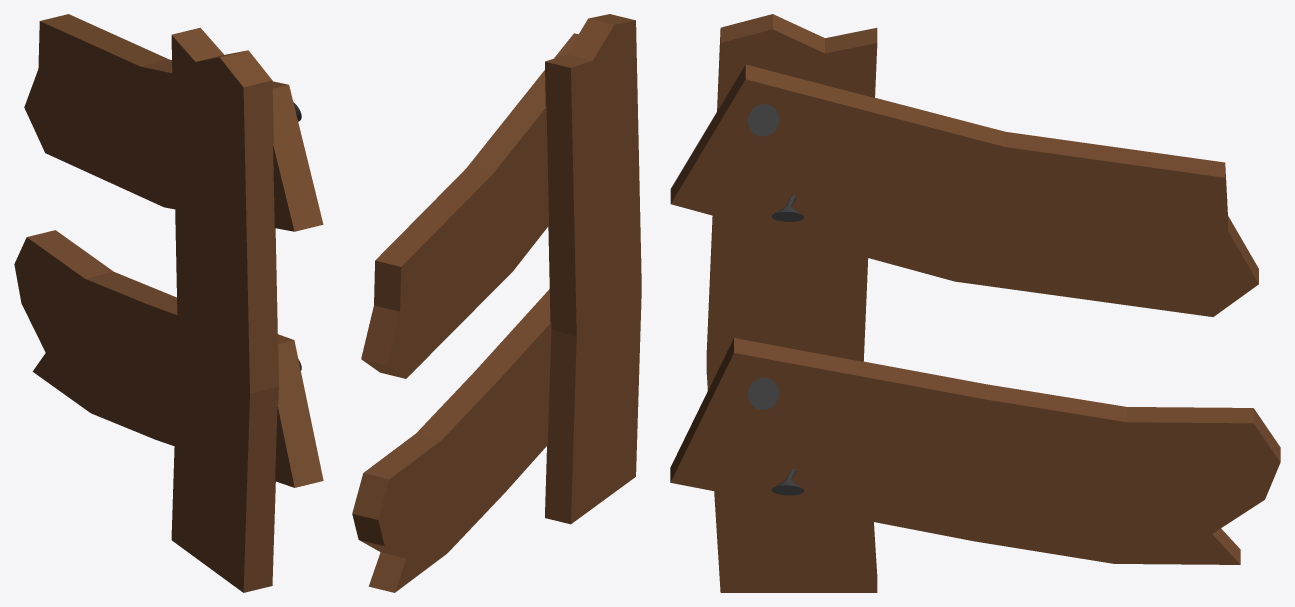
The model's file is ZaborL.fbx.
3 views of the same model, side by side, from view 1: azimuth 30°, elevation 25°; view 2: azimuth 150°, elevation 25°; view 3: azimuth 270°, elevation 25° (orthographic). The views are drawn at different scales.
Parts seen in each view (by area): view 1: ZaborL; view 2: ZaborL; view 3: ZaborL.
Boxes of the visible parts, bbox=[...] form: ZaborL: bbox=[14, 14, 323, 592]; ZaborL: bbox=[352, 14, 641, 592]; ZaborL: bbox=[670, 14, 1280, 592].
Bounding box in the file's own units: 28.59 × 186 × 182.
